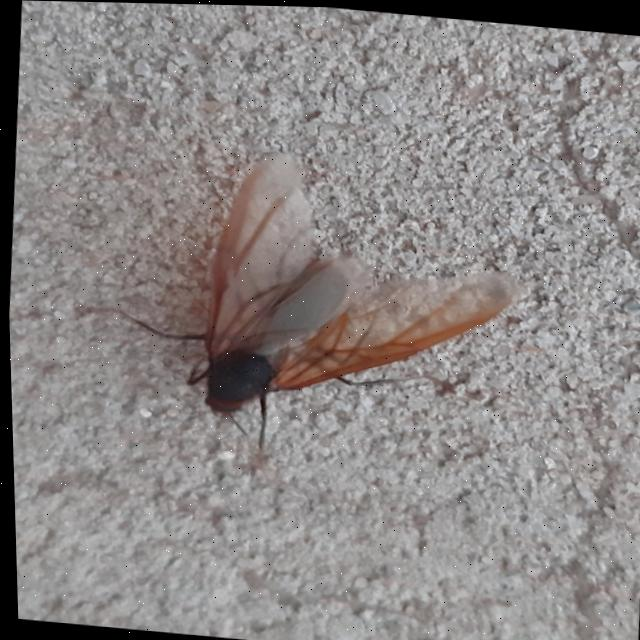Alive-Male-Alate: (71, 130, 530, 488)
